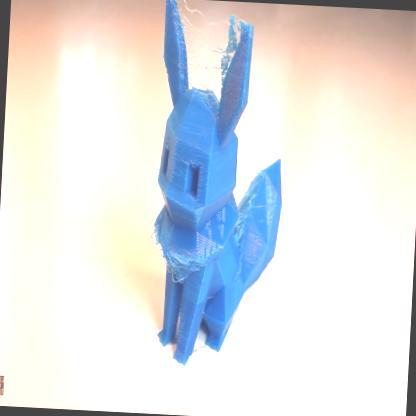fail: (181, 10, 242, 63), (149, 231, 195, 289)
